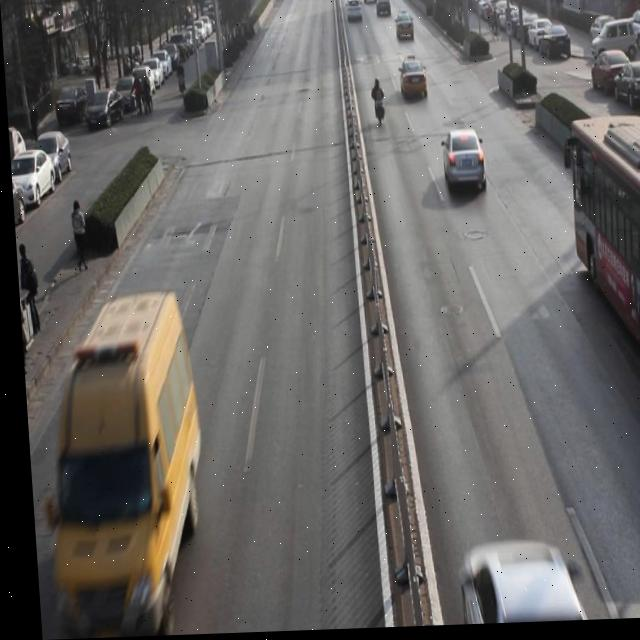car: (445, 537, 583, 628), (440, 127, 487, 208), (397, 60, 428, 109), (394, 10, 416, 48), (345, 0, 363, 29), (376, 0, 393, 24)
truck: (35, 285, 203, 639)
van: (563, 119, 640, 396)
